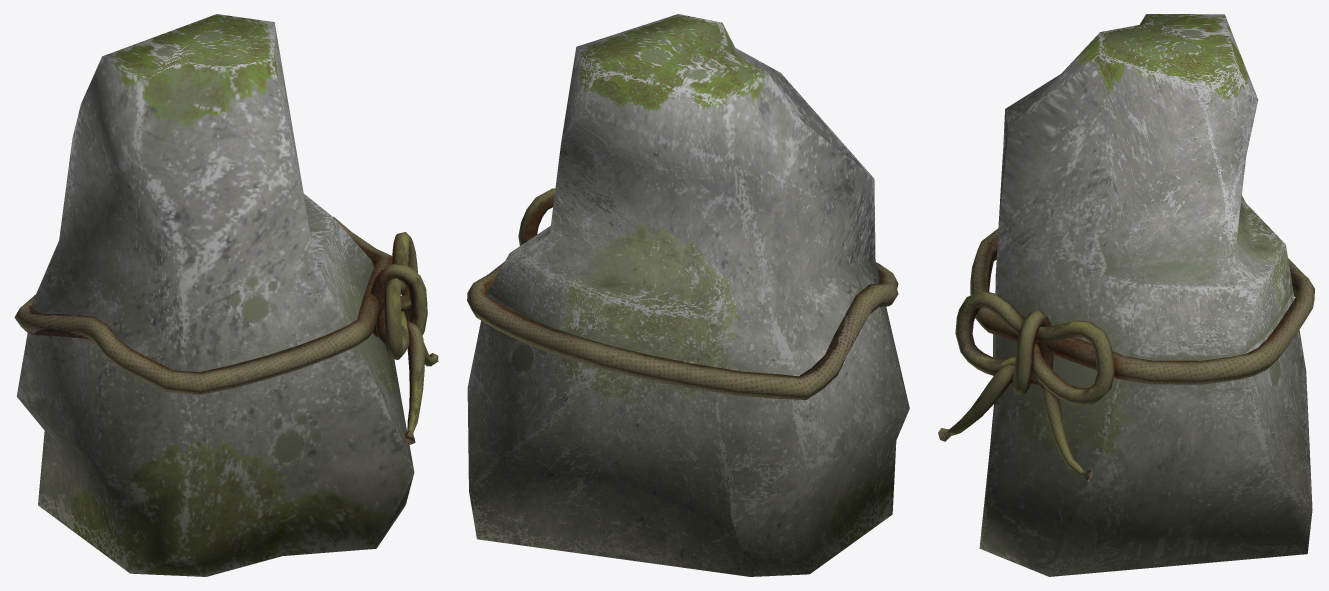
Rendered from cat_stone.glb.
3 renders of one model, left to right at view 1: azimuth 30°, elevation 25°; view 2: azimuth 150°, elevation 25°; view 3: azimuth 270°, elevation 25°, orthographic. The views are drawn at different scales.
Parts seen in each view (by area): view 1: stone_low, rope_low, shimenawa_low; view 2: stone_low, rope_low, shimenawa_low; view 3: stone_low, shimenawa_low, rope_low.
Part boxes in pixels (x1,y1,x2,y2): stone_low: (16,14,414,576); rope_low: (14,216,392,394); shimenawa_low: (370,232,438,444); stone_low: (467,14,909,576); rope_low: (467,237,898,399); shimenawa_low: (518,188,555,245); stone_low: (979,14,1312,576); shimenawa_low: (938,291,1114,481); rope_low: (970,228,1314,384).
Bounding box in the file's own units: 2.85 × 3.5 × 2.53.
1 material, 1 textured.
